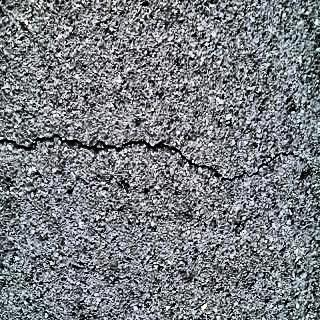crack: (1, 130, 306, 183)
